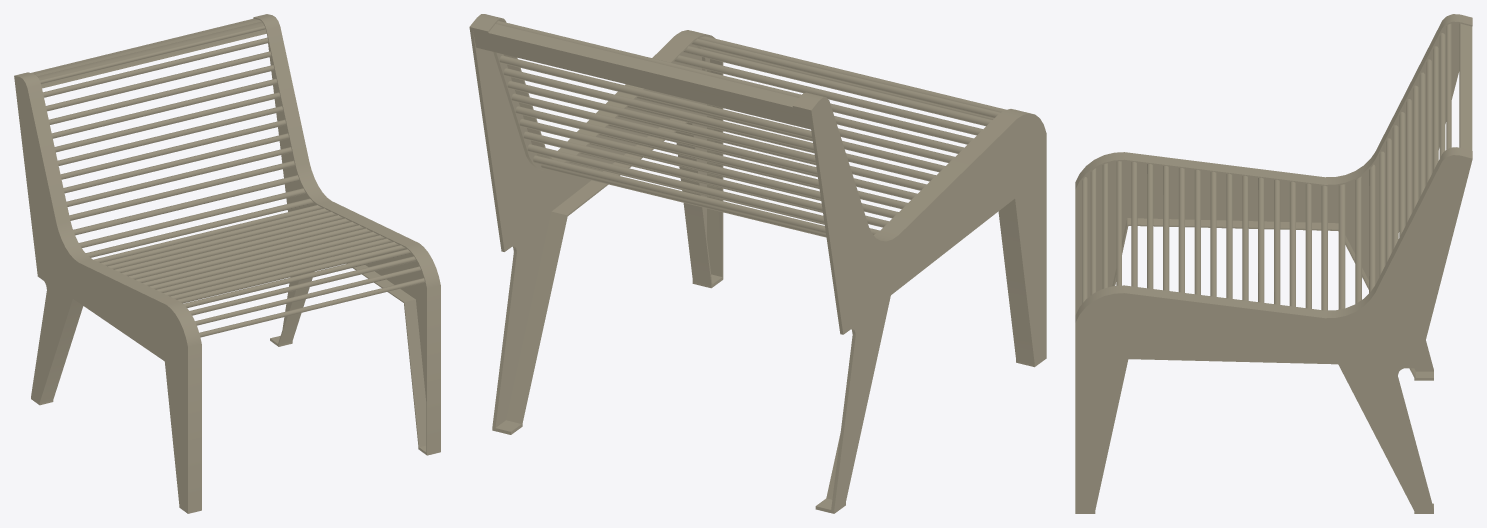
File: stul4.glb
3 renders of one model, left to right at view 1: azimuth 30°, elevation 25°; view 2: azimuth 150°, elevation 25°; view 3: azimuth 270°, elevation 25°, orthographic. The views are drawn at different scales.
Parts seen in each view (by area): view 1: stool.006; view 2: stool.006; view 3: stool.006.
Boxes of the visible parts, box(x1,y1,x2,y2) form: stool.006: box(14, 14, 440, 513); stool.006: box(469, 14, 1046, 513); stool.006: box(1075, 14, 1472, 513).
Bounding box in the file's own units: 0.66 × 0.7839 × 0.7864.
Materials: 1 (1 with a texture image).
